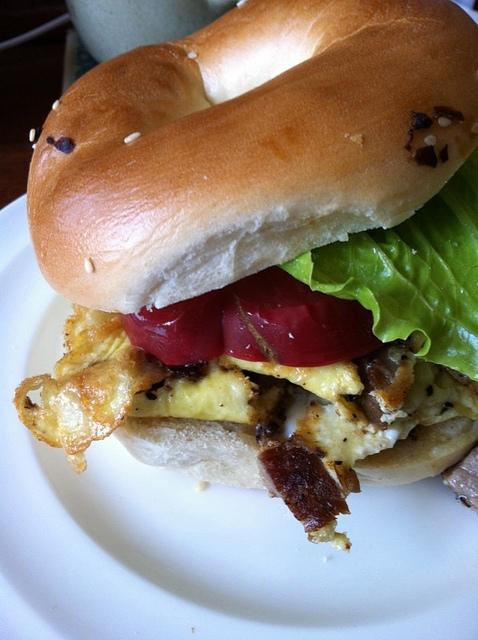lettuce: (278, 143, 478, 383)
